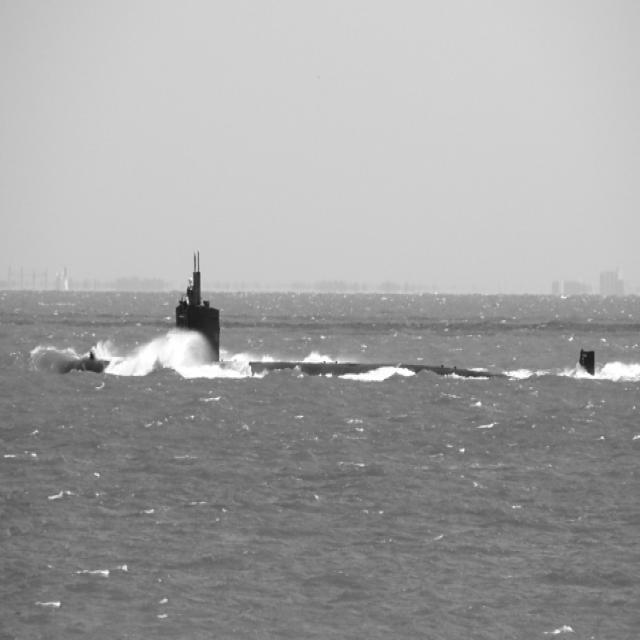submarine: (57, 256, 626, 372)
